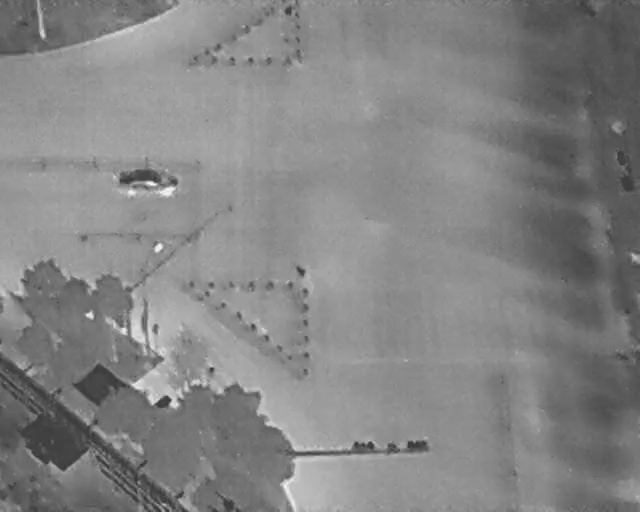Car: (114, 165, 180, 197)
